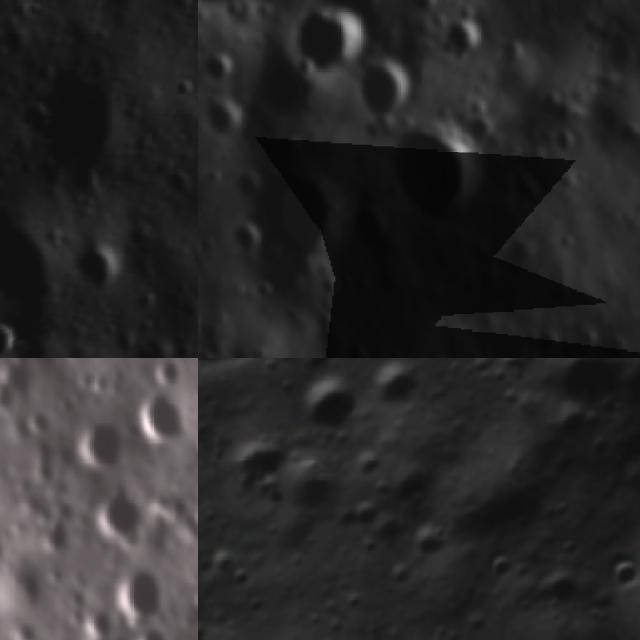crater: (383, 120, 489, 226), (256, 165, 336, 271), (210, 422, 292, 502), (274, 444, 353, 526), (293, 2, 369, 72), (293, 369, 366, 441), (251, 60, 327, 126), (357, 56, 425, 122), (334, 483, 394, 544), (402, 506, 462, 566), (370, 358, 430, 417), (107, 566, 168, 623), (90, 484, 147, 542), (72, 419, 126, 476), (527, 0, 618, 32), (538, 358, 640, 386), (133, 389, 184, 444), (442, 12, 491, 62), (475, 544, 524, 594), (595, 545, 640, 597), (199, 93, 243, 144), (350, 197, 388, 254), (503, 168, 548, 208), (82, 247, 116, 296), (498, 28, 534, 72), (504, 233, 539, 275), (201, 52, 236, 88), (153, 358, 190, 390), (548, 122, 582, 154), (232, 214, 259, 251), (344, 338, 377, 358), (141, 622, 173, 640), (0, 329, 18, 358), (423, 345, 456, 358), (539, 351, 576, 358)
